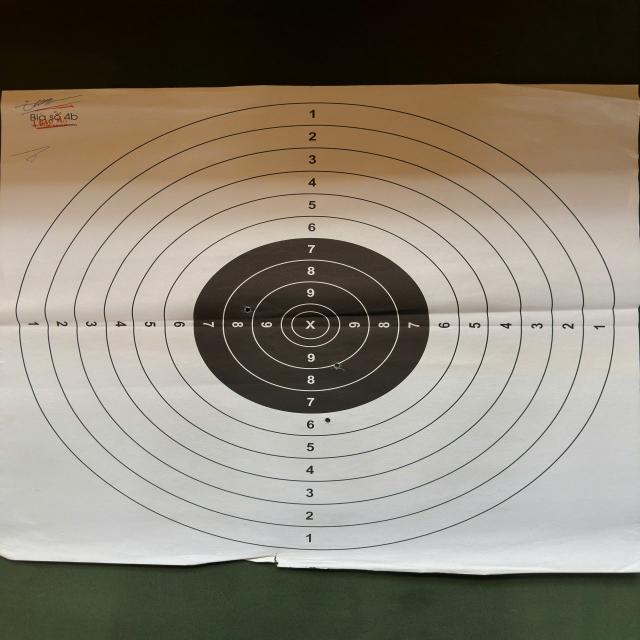bullet: (333, 362, 343, 370), (244, 308, 252, 312), (325, 418, 331, 422)
target: (0, 84, 632, 576)
